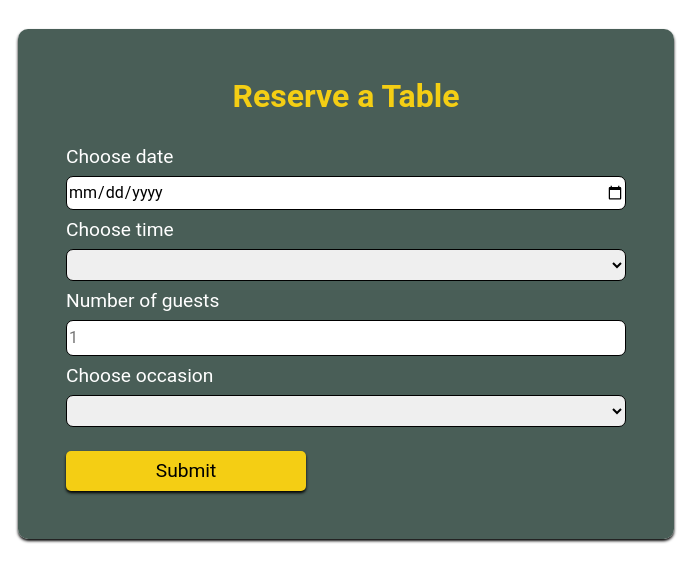
Test: Date input validation [All Invalid] › minimum
The width and height of the screenshot is (693, 573).
Type "2000-08-24" into the date field labelled "Choose date" at (346, 193), box [66,176,626,210]
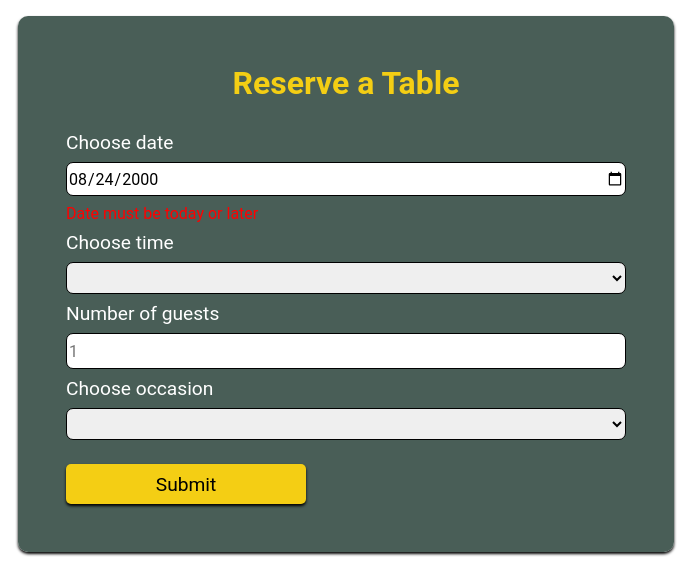
Expected: the text with test id "date-error" reads "Date must be today or later", [66,204,258,223]
